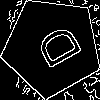D: (27, 22, 83, 76)
